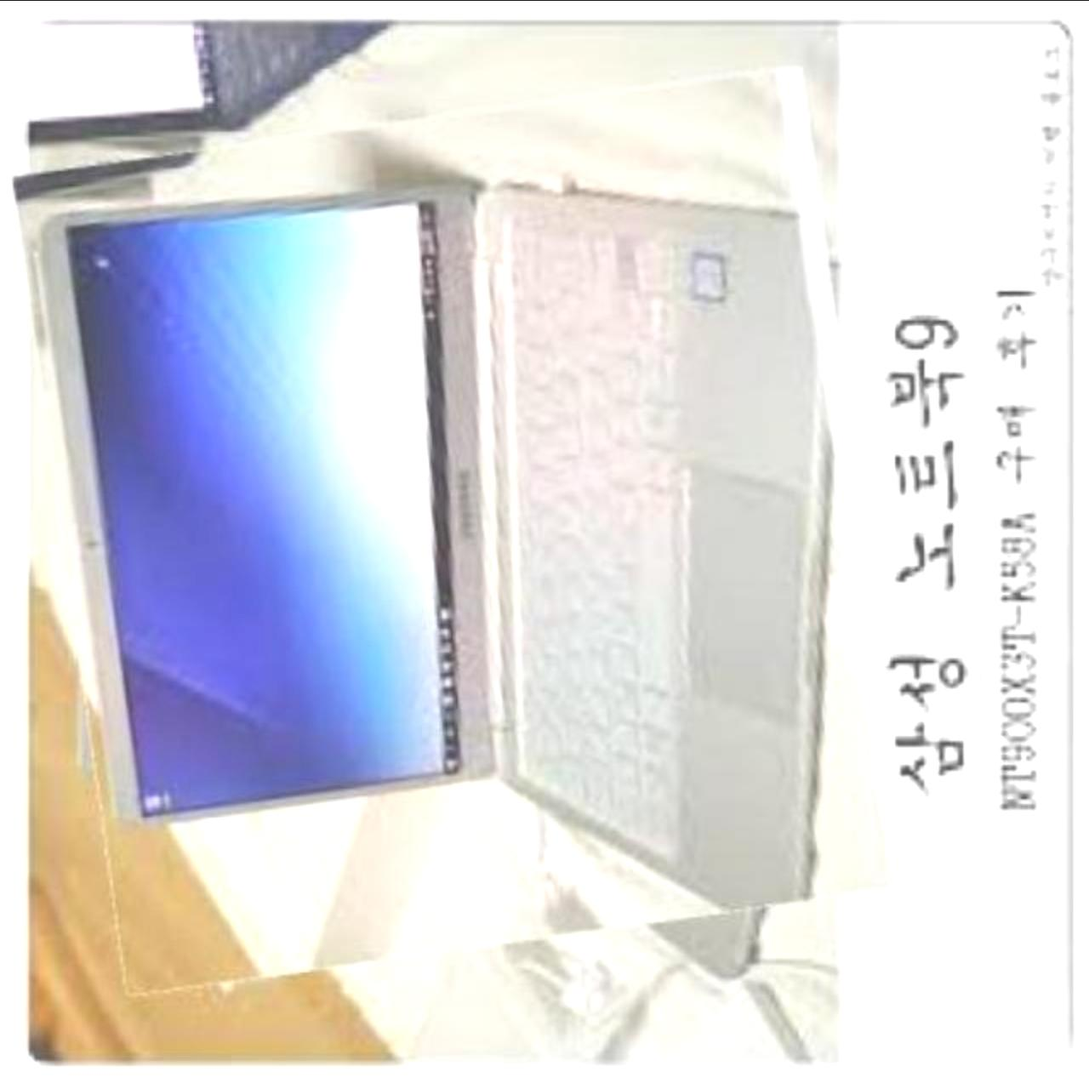laptop: (41, 92, 888, 970)
